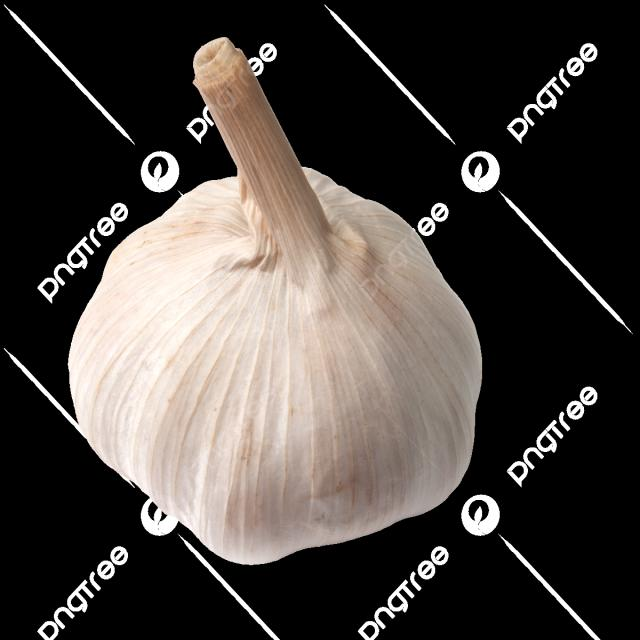garlic: (61, 163, 492, 564)
